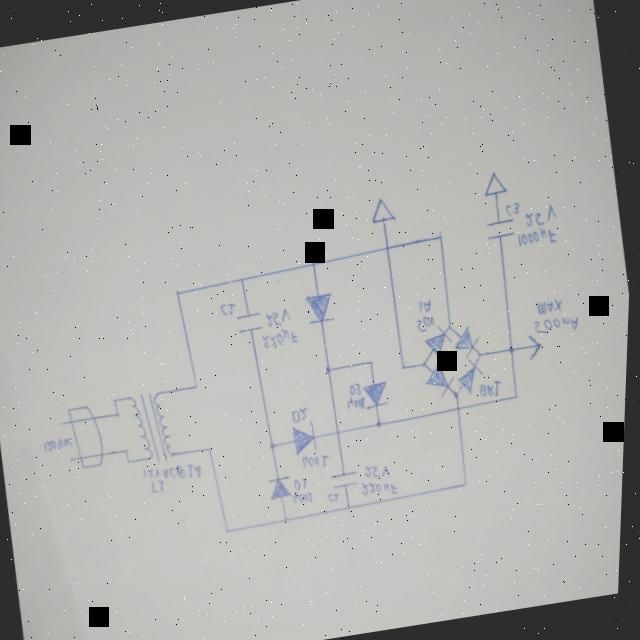capacitor: (485, 218, 518, 241), (236, 310, 267, 334), (331, 470, 362, 489)
crossover: (455, 404, 465, 414), (337, 428, 344, 437), (385, 245, 392, 252)
diode: (424, 360, 459, 400), (423, 323, 456, 361), (456, 358, 488, 396), (453, 322, 485, 360), (305, 292, 339, 326), (292, 419, 322, 456), (363, 379, 394, 413), (269, 475, 297, 500)
ground: (368, 194, 397, 225), (481, 168, 509, 196)
junction: (375, 418, 387, 431), (325, 364, 336, 376), (507, 344, 517, 356), (436, 230, 446, 241), (368, 358, 378, 368), (270, 440, 279, 451), (454, 390, 462, 400), (447, 322, 455, 332), (349, 502, 356, 512), (227, 526, 234, 536), (240, 274, 247, 284), (310, 258, 317, 268), (464, 479, 471, 488), (514, 391, 521, 400), (176, 288, 182, 298), (478, 350, 485, 358), (113, 396, 120, 404), (401, 363, 408, 371), (195, 382, 201, 391), (423, 360, 429, 368), (117, 412, 124, 418), (286, 516, 292, 522), (129, 458, 134, 464), (126, 447, 131, 453), (209, 447, 214, 452)
terminal: (527, 332, 546, 362), (57, 419, 66, 428), (68, 456, 78, 464)
text: (145, 458, 208, 488), (261, 325, 303, 352), (535, 314, 581, 338), (516, 224, 558, 249), (523, 202, 559, 228), (362, 476, 401, 499), (43, 432, 77, 453), (479, 376, 507, 401), (266, 306, 294, 328), (537, 295, 566, 316), (303, 450, 333, 470), (366, 461, 396, 481), (291, 405, 313, 424), (417, 314, 437, 334), (348, 394, 369, 412), (294, 488, 317, 504), (220, 300, 240, 318), (503, 200, 522, 218), (151, 477, 169, 495), (418, 298, 434, 314), (295, 476, 312, 491), (350, 382, 364, 396), (330, 491, 343, 503)
transformer: (128, 387, 181, 468)
